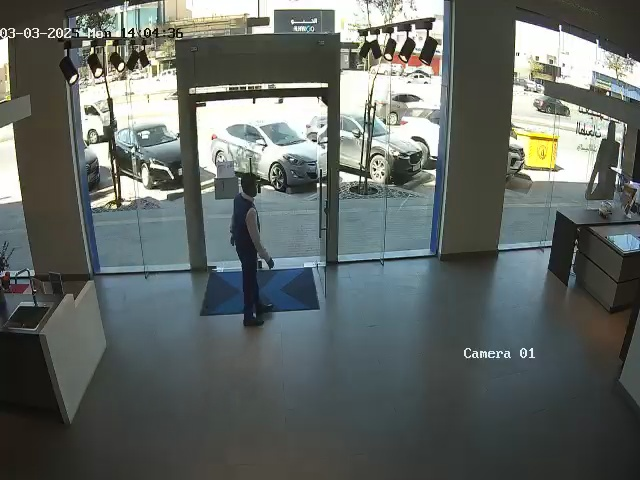employee: (229, 174, 275, 327)
